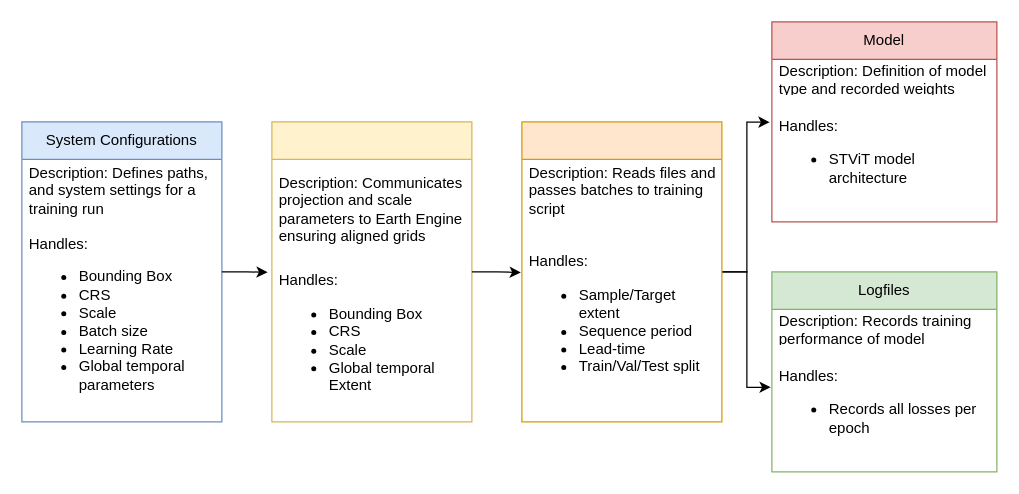
Some shapes in this 1019 by 494 pixel diagram are drawn without their labels. Here are the shapes that lost their labels. From the top down, the box of each, then its label:
(271, 121, 472, 422): Golden Grid
(521, 121, 722, 422): Dataset Builder
